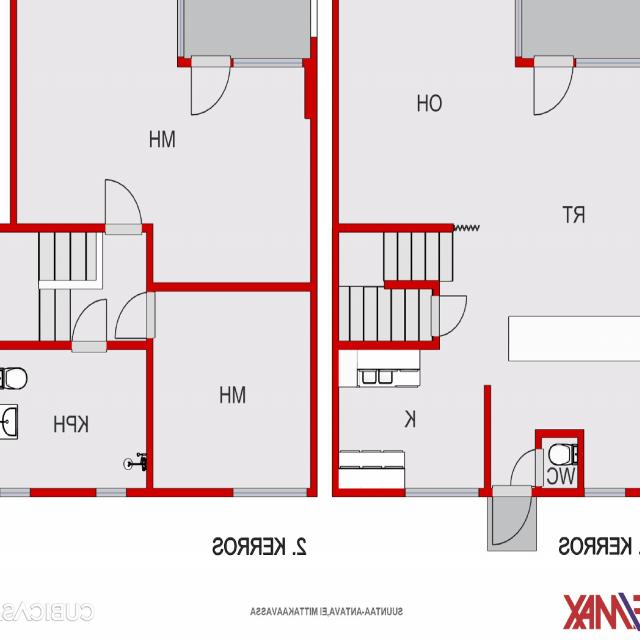door: (138, 124, 185, 178), (534, 58, 574, 119), (493, 488, 532, 548), (192, 59, 230, 120), (105, 174, 142, 232), (142, 233, 185, 281), (72, 294, 107, 349), (112, 292, 153, 338), (432, 296, 470, 336), (507, 449, 542, 486)
